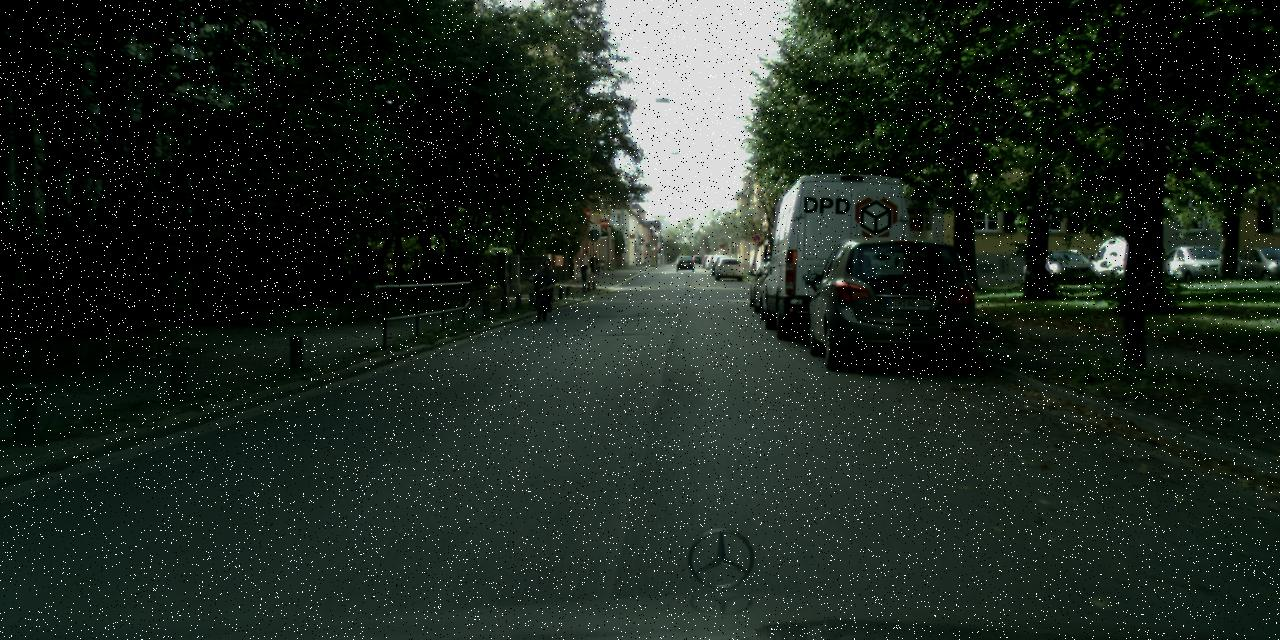ped: (534, 259, 556, 310), (588, 253, 599, 280), (578, 252, 588, 280)
